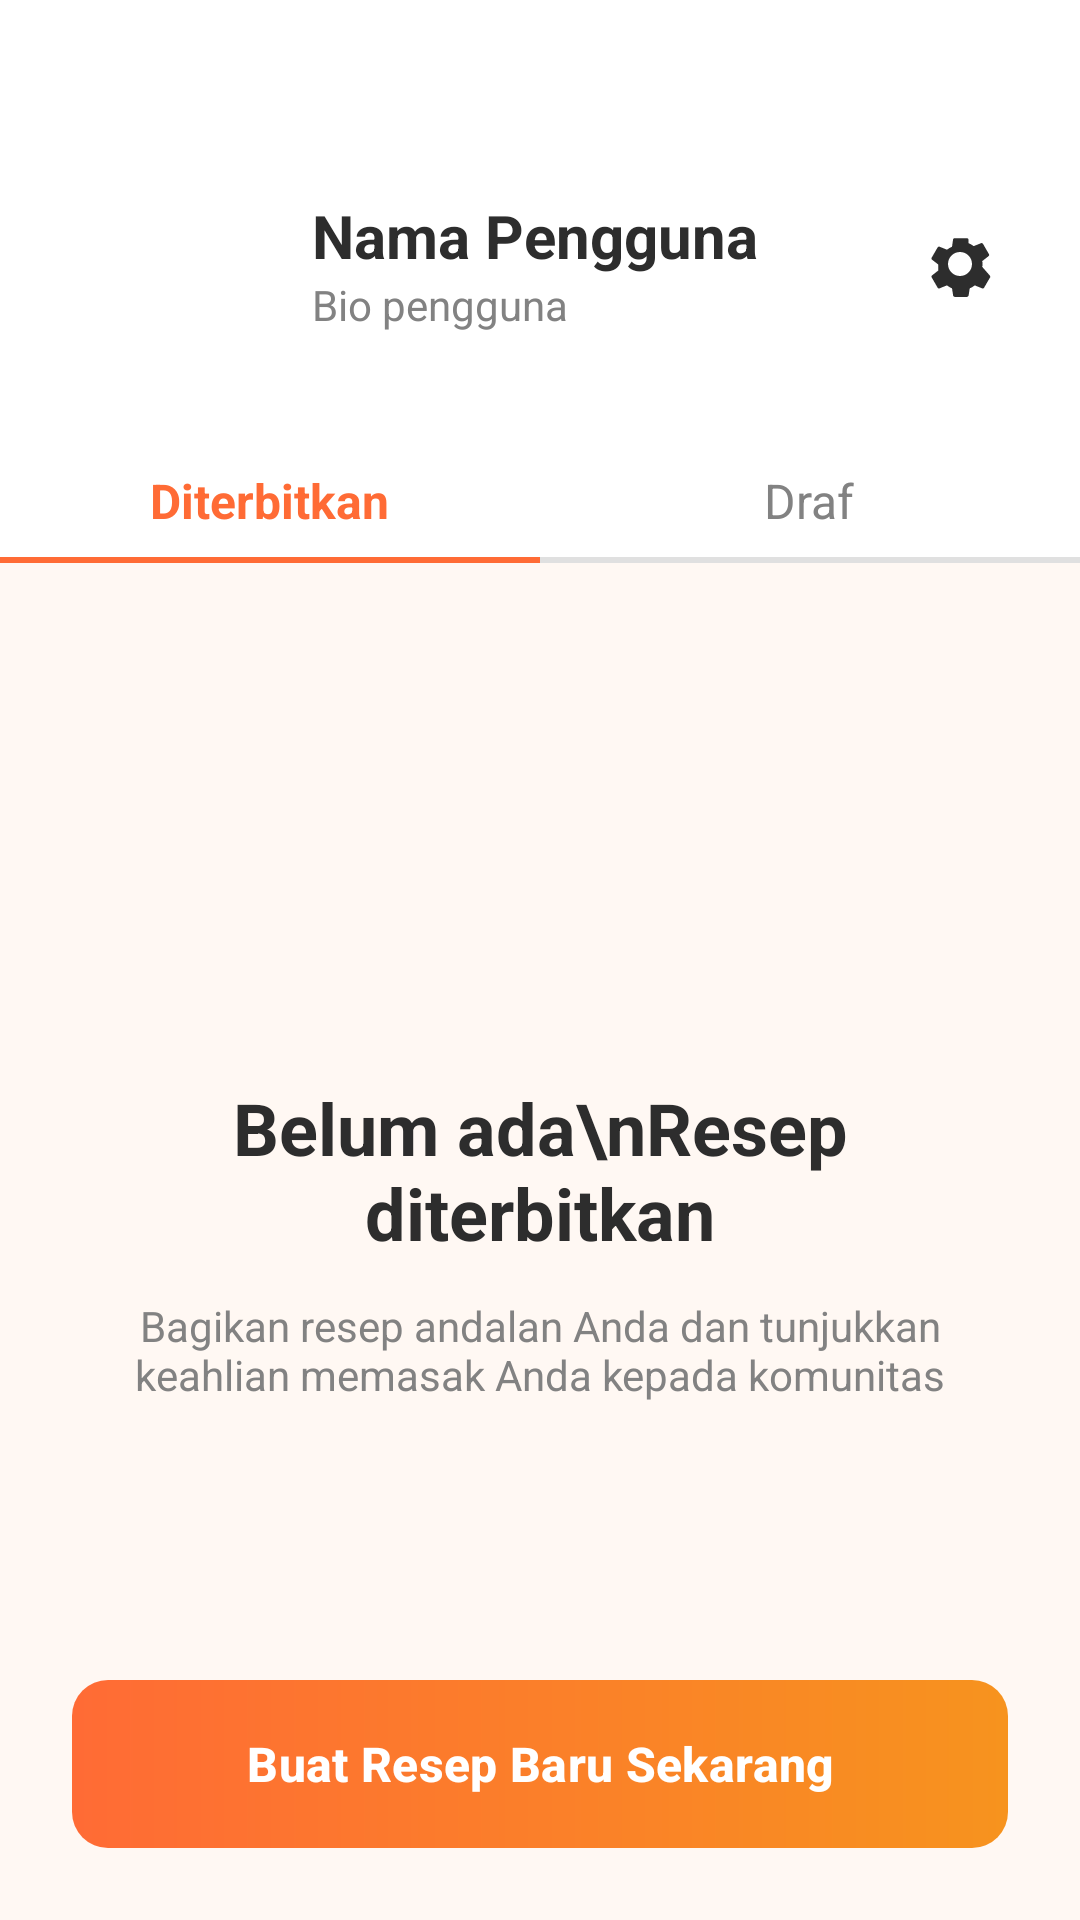

Where icons sit on this 1080 × 1920 app screen, as rect(x1, y1, x2, y2):
settings: rect(931, 238, 991, 297)
